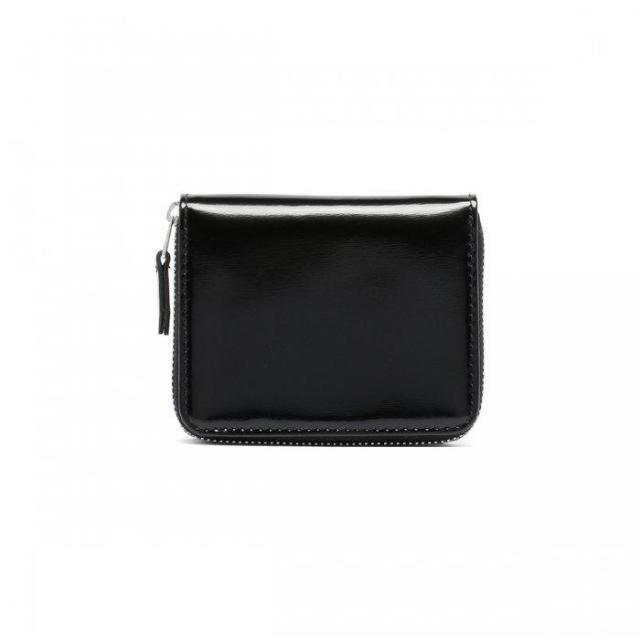wallet: (156, 180, 492, 450)
